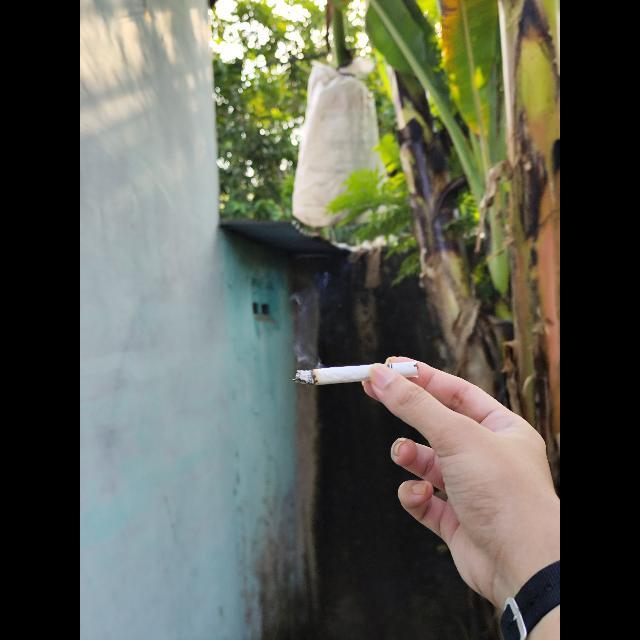rokok: (284, 358, 428, 390)
